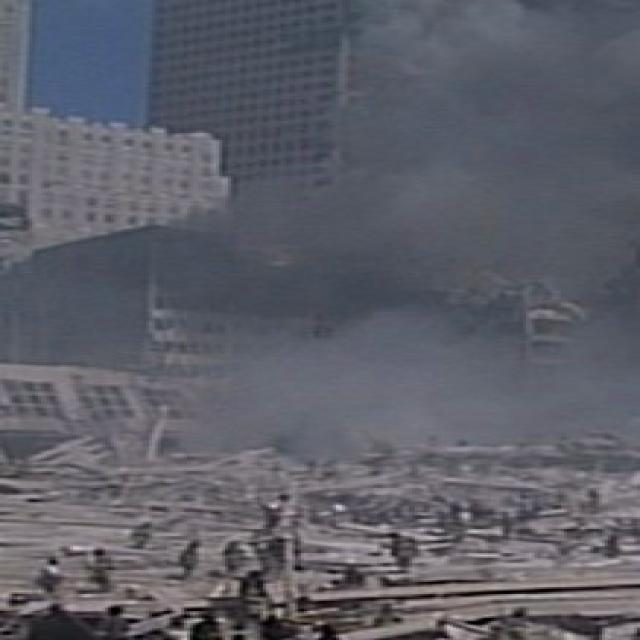Severely_Damaged: (11, 247, 640, 632)
